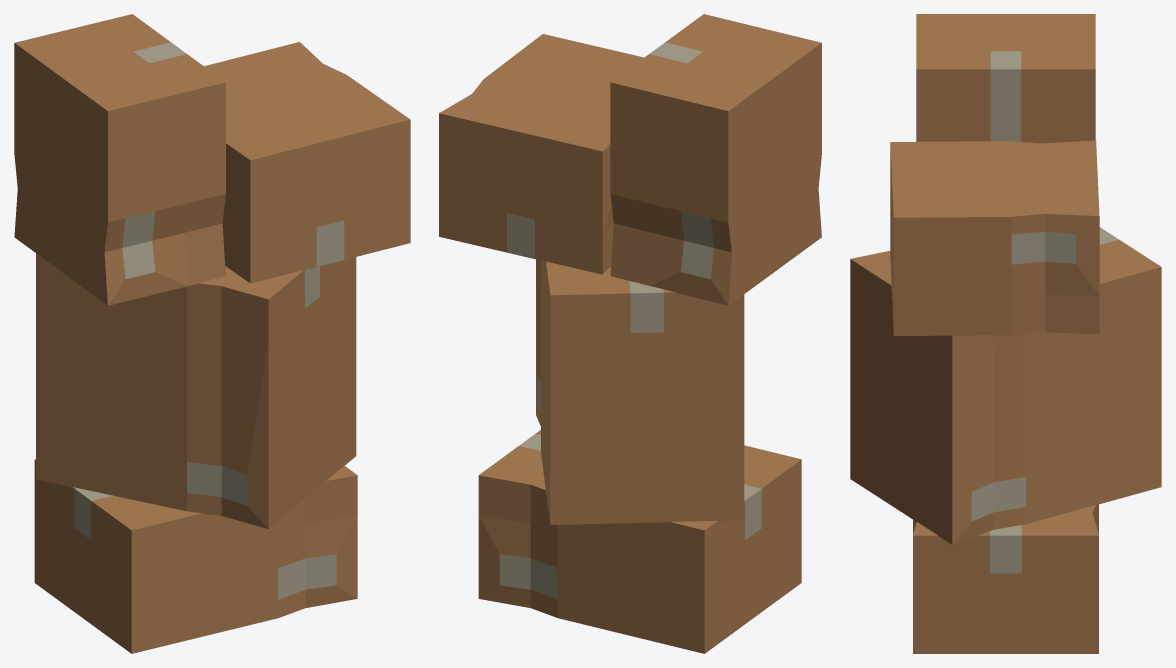
The model's file is boxes3.glb.
3 renders of one model, left to right at view 1: azimuth 30°, elevation 25°; view 2: azimuth 150°, elevation 25°; view 3: azimuth 270°, elevation 25°, orthographic. The views are drawn at different scales.
Visible parts, largest first — view 1: CardboardBoxes_3; view 2: CardboardBoxes_3; view 3: CardboardBoxes_3.
Part boxes in pixels (<box>): CardboardBoxes_3: <box>14,14,410,653</box>; CardboardBoxes_3: <box>439,14,821,653</box>; CardboardBoxes_3: <box>850,14,1161,653</box>.
Bounding box in the file's own units: 1.26 × 2.25 × 1.21.
